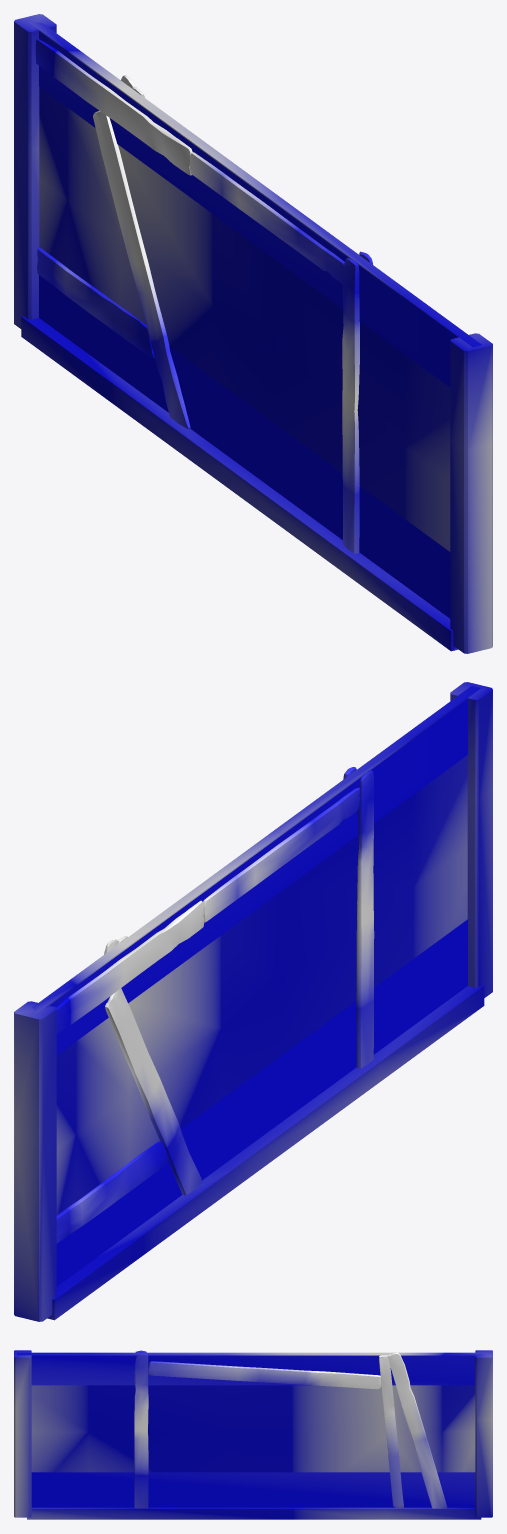
Rendered from SM_ShackFront8m_01.fbx.
3 renders of one model, top to bottom at view 1: azimuth 30°, elevation 25°; view 2: azimuth 150°, elevation 25°; view 3: azimuth 270°, elevation 25°, orthographic. The views are drawn at different scales.
Visible parts, largest first — view 1: SM_ShackFront8m_01_LOD0; view 2: SM_ShackFront8m_01_LOD0; view 3: SM_ShackFront8m_01_LOD0.
Boxes of the visible parts, x1,y1,x2,y2 form: SM_ShackFront8m_01_LOD0: (14, 14, 492, 653); SM_ShackFront8m_01_LOD0: (14, 682, 492, 1321); SM_ShackFront8m_01_LOD0: (14, 1350, 492, 1519).
Size of the model in its own units: 32.28 by 814 by 311.
